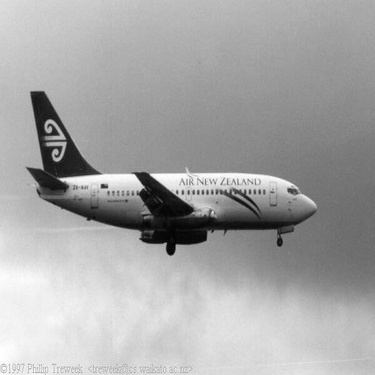airplane: (11, 75, 330, 264)
